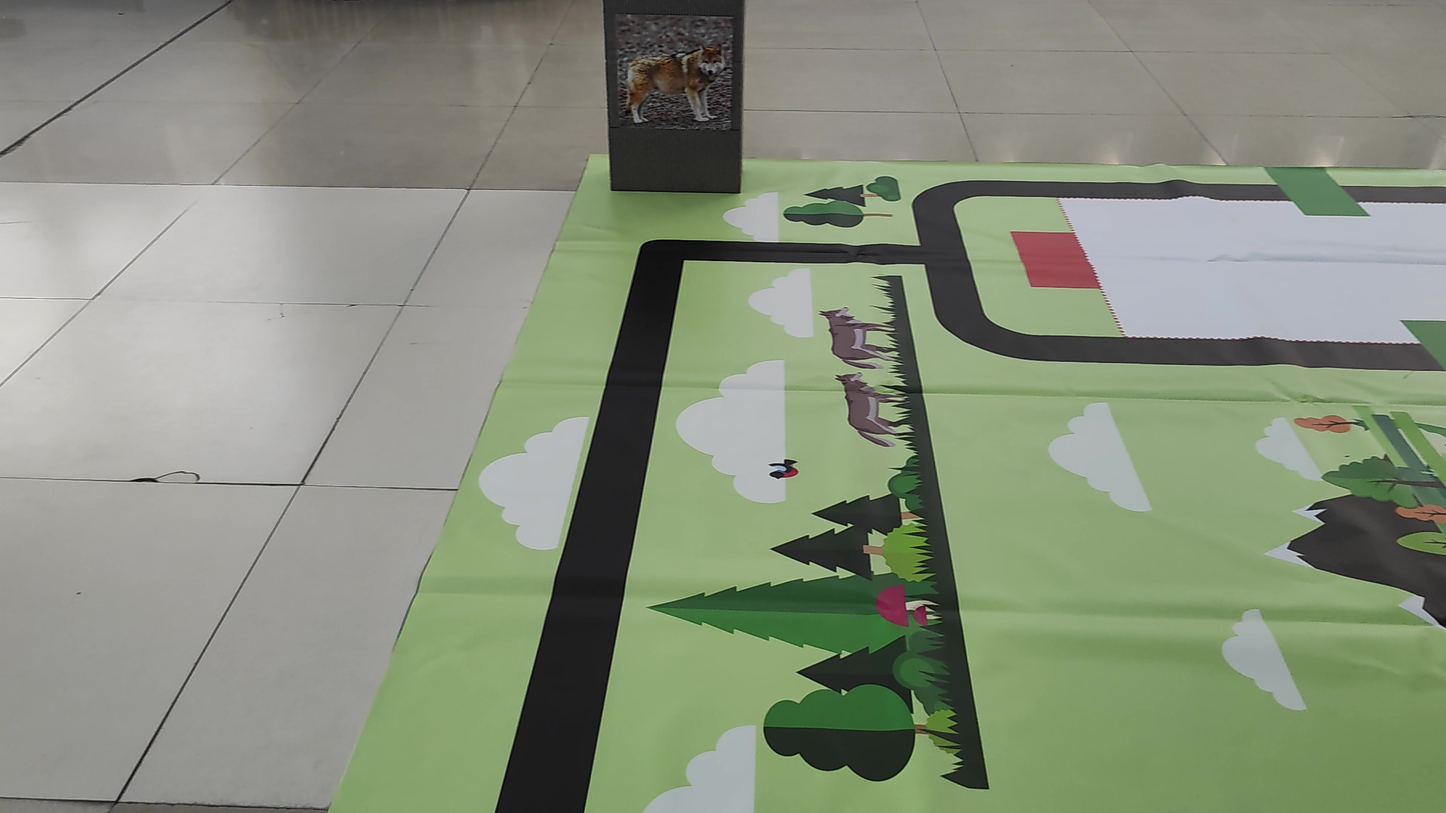wolf: (610, 18, 746, 139)
